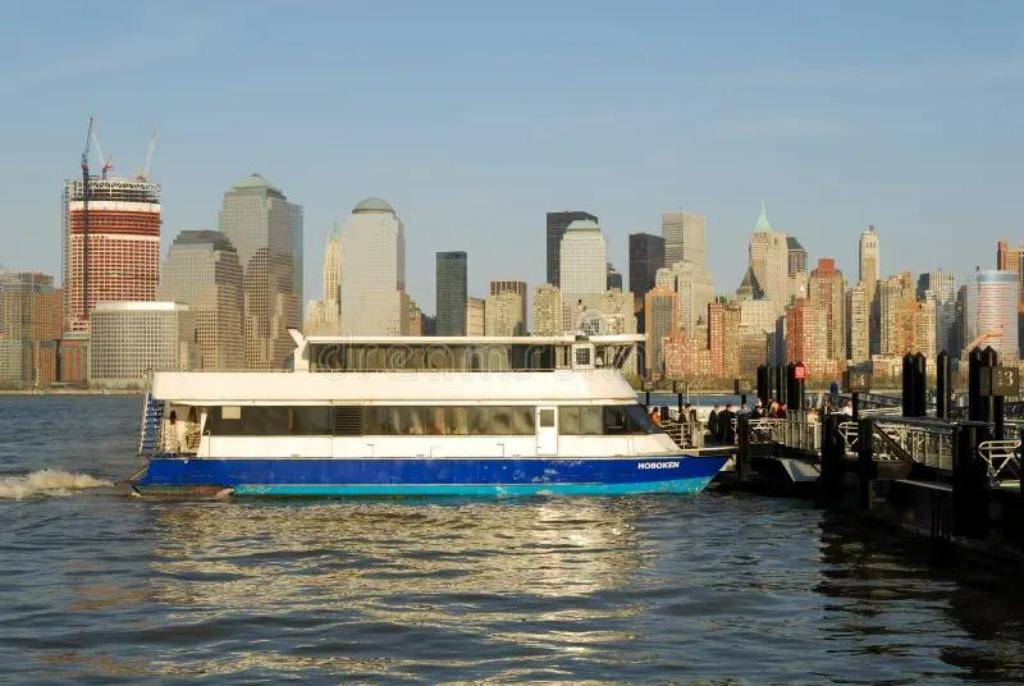PassengerShip: (118, 306, 736, 508)
